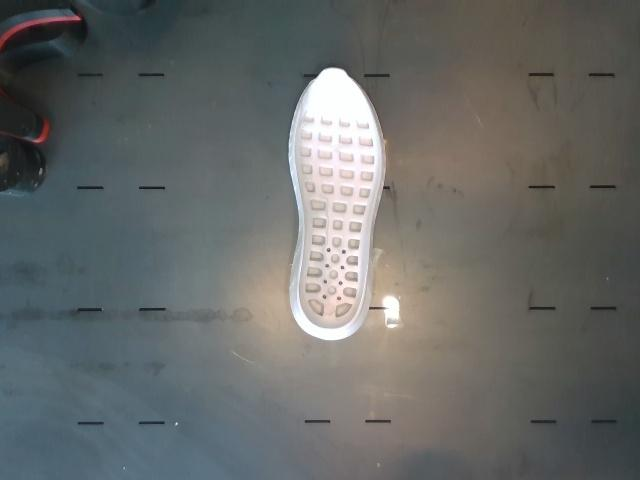shoes: (293, 69, 383, 330)
